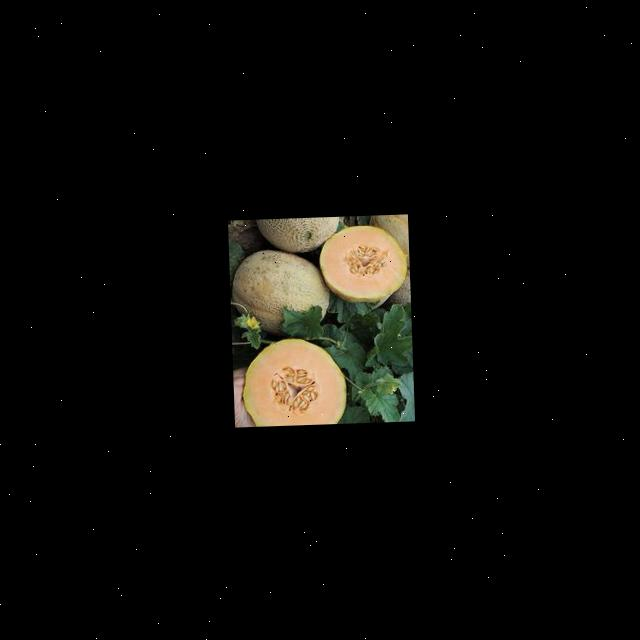Hami Melon: (238, 336, 348, 426), (230, 248, 328, 334), (318, 224, 407, 302)
